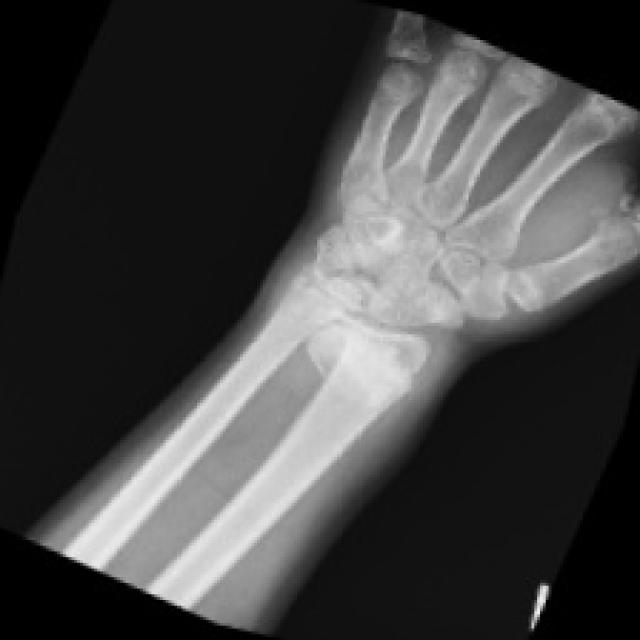fracture: (471, 247, 564, 349), (361, 29, 446, 122)
